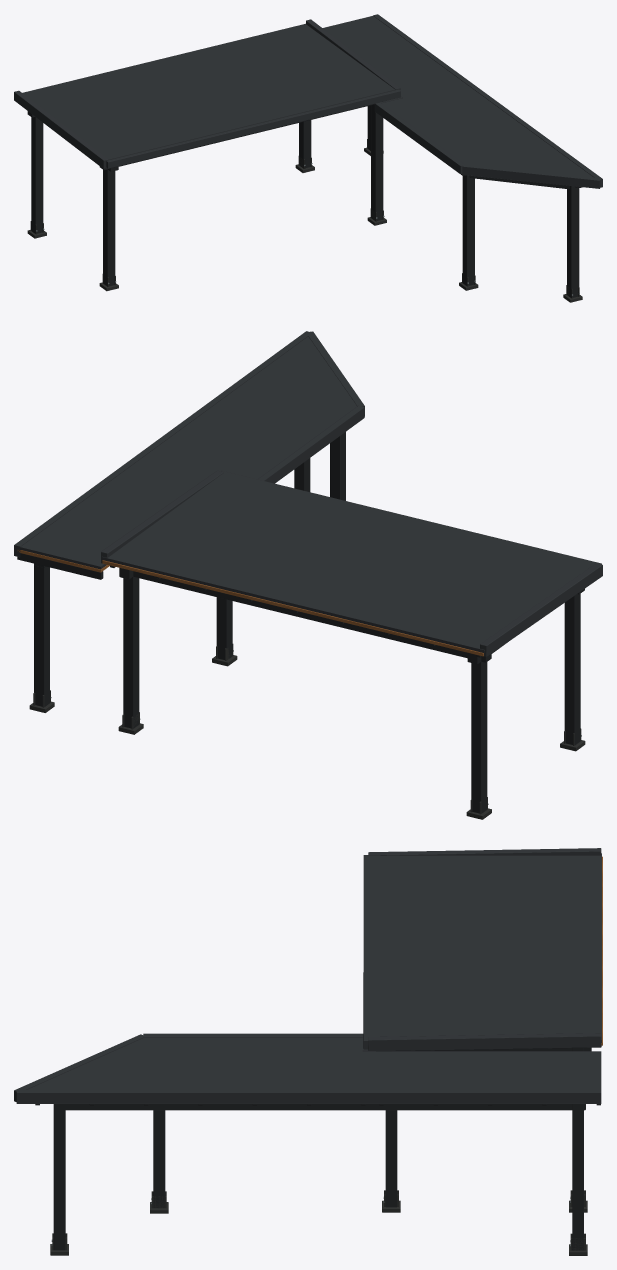
File: d2_oscuro_cielo_madera.glb
The picture shows the model from 3 angles, top to bottom: view 1: azimuth 30°, elevation 25°; view 2: azimuth 150°, elevation 25°; view 3: azimuth 270°, elevation 25°; orthographic projection. The views are drawn at different scales.
Parts seen in each view (by area): view 1: MESH_D2_OSCURO_CIELO_MADERA; view 2: MESH_D2_OSCURO_CIELO_MADERA; view 3: MESH_D2_OSCURO_CIELO_MADERA.
Part boxes in pixels (box(x1,y1,x2,y2)): MESH_D2_OSCURO_CIELO_MADERA: box(14, 14, 602, 302); MESH_D2_OSCURO_CIELO_MADERA: box(14, 331, 602, 819); MESH_D2_OSCURO_CIELO_MADERA: box(14, 848, 602, 1255).
Size of the model in its own units: 7.33 by 2.71 by 7.91.
Materials: 6 (1 with a texture image).
